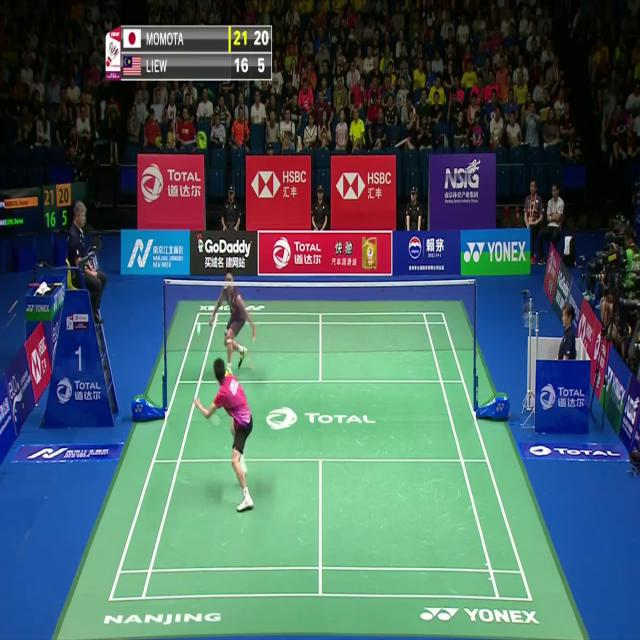Shuttlecock: (195, 323, 201, 335)
